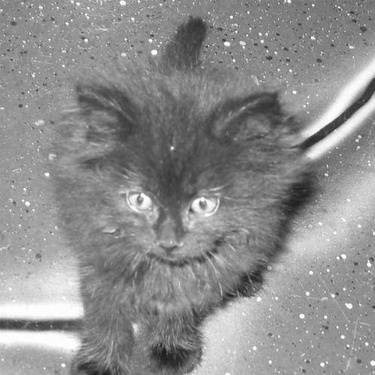cat: (45, 14, 328, 367)
